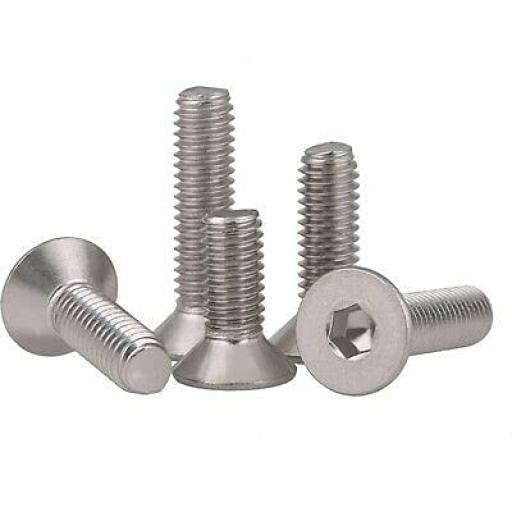Hex-Allen: (295, 260, 409, 397)
